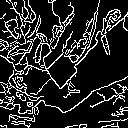cube: (41, 49, 78, 91)
